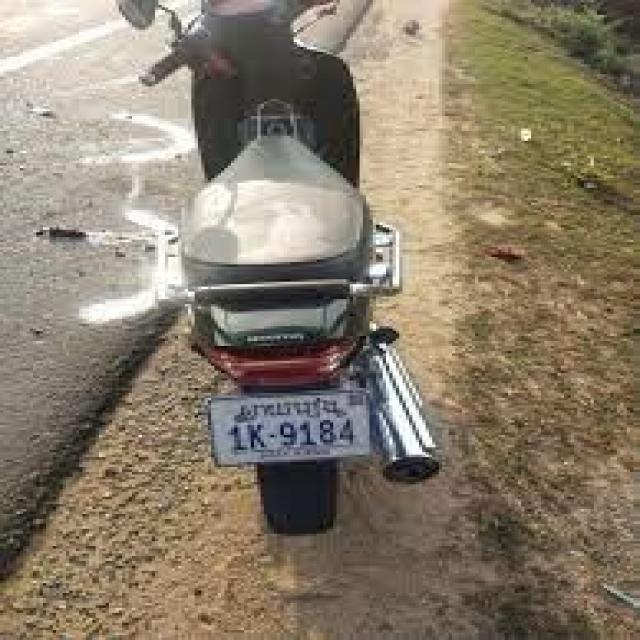Svay_Rieng: (234, 398, 344, 417)
